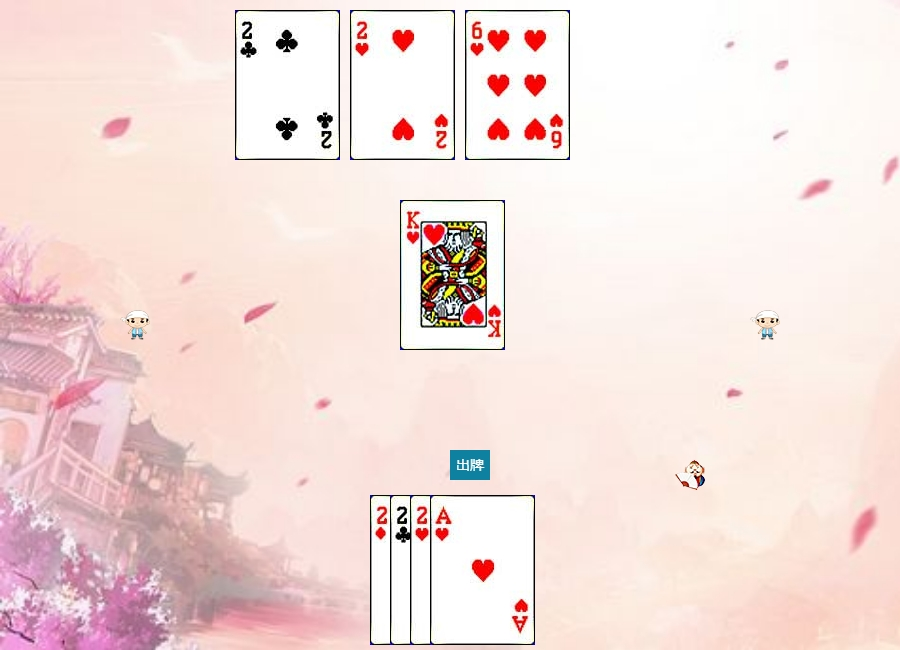13~3: (400, 200, 505, 350)
14~3: (430, 495, 535, 645)
15~1: (370, 495, 475, 645)
15~2: (235, 10, 340, 160), (390, 495, 495, 645)
15~3: (350, 10, 455, 160), (410, 495, 515, 645)
6~3: (465, 10, 570, 160)
